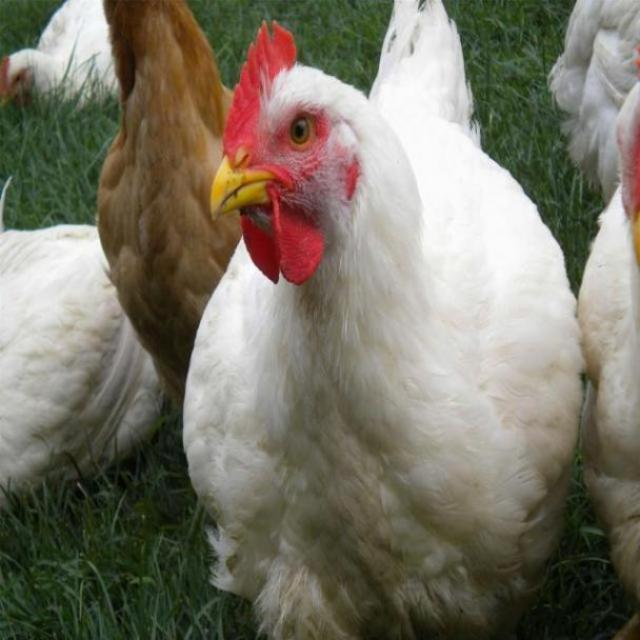Chicken: (206, 12, 576, 623), (101, 0, 244, 397), (2, 223, 167, 498), (0, 0, 116, 128)
